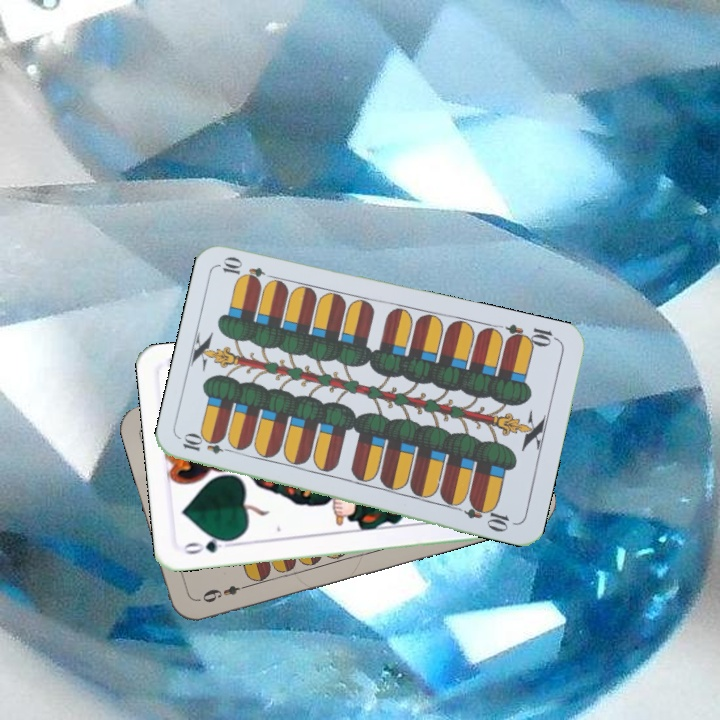E10: (502, 320, 561, 350), (179, 432, 238, 457)
E9: (194, 580, 252, 606)
GO: (179, 532, 238, 557)
